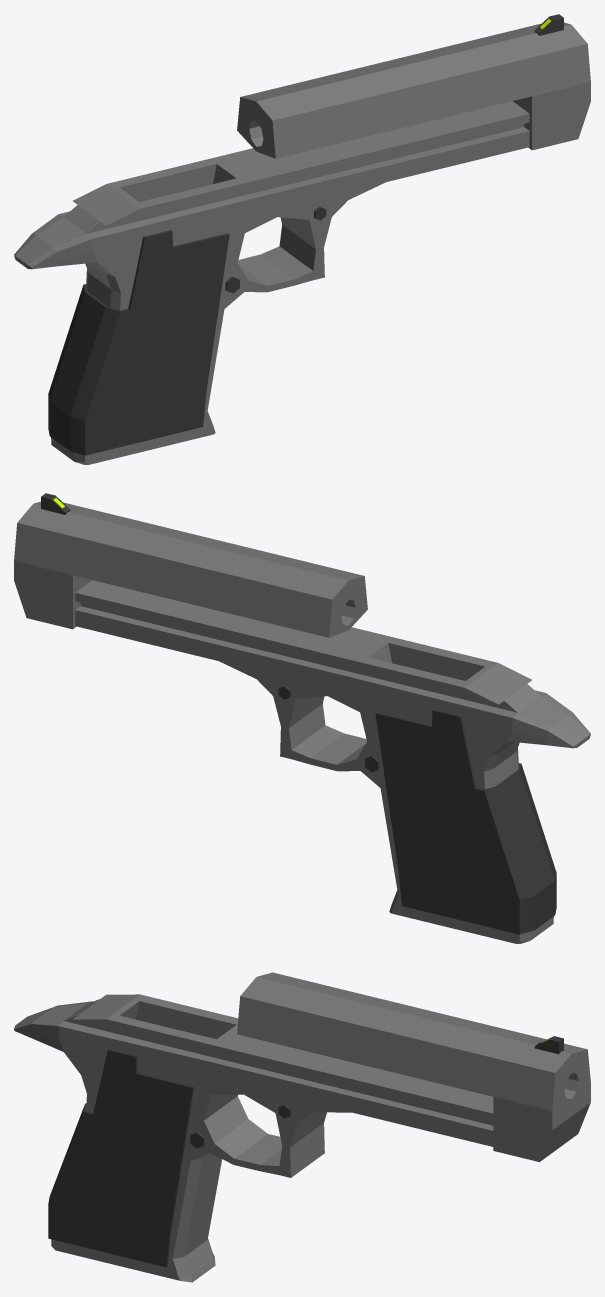
File: Pistol3_01.fbx
3 views of the same model, one above another, from view 1: azimuth 30°, elevation 25°; view 2: azimuth 150°, elevation 25°; view 3: azimuth 330°, elevation 25° (orthographic).
Visible parts, largest first — view 1: Pistol3_01; view 2: Pistol3_01; view 3: Pistol3_01.
Boxes of the visible parts, bbox=[...] form: Pistol3_01: bbox=[14, 14, 590, 464]; Pistol3_01: bbox=[14, 493, 590, 943]; Pistol3_01: bbox=[14, 972, 590, 1282].
Bounding box in the file's own units: 0.3445 × 0.1921 × 0.042.
